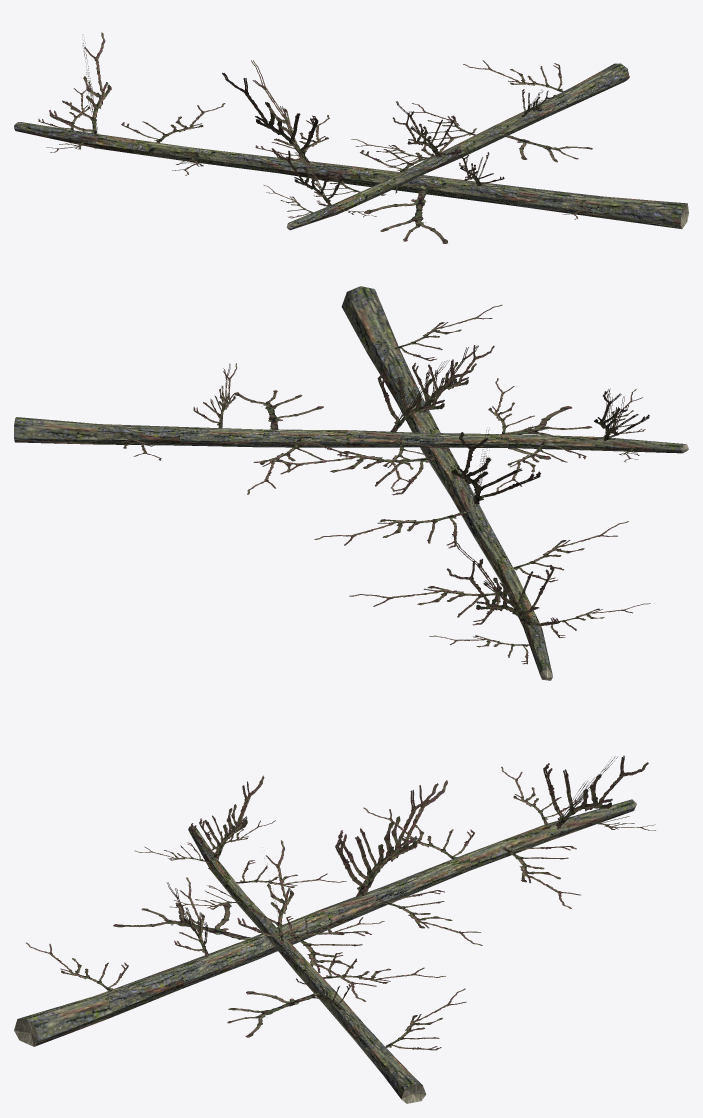
Rendered from fallen-1.glb.
The picture shows the model from 3 angles, top to bottom: view 1: azimuth 30°, elevation 25°; view 2: azimuth 150°, elevation 25°; view 3: azimuth 270°, elevation 25°; orthographic projection. The views are drawn at different scales.
Visible parts, largest first — view 1: fallen-1; view 2: fallen-1; view 3: fallen-1.
Boxes of the visible parts, x1,y1,x2,y2 form: fallen-1: (14,32,688,243); fallen-1: (14,286,688,680); fallen-1: (14,755,655,1103).
Size of the model in its own units: 14.41 by 3.33 by 13.11.
1 material, 1 textured.
